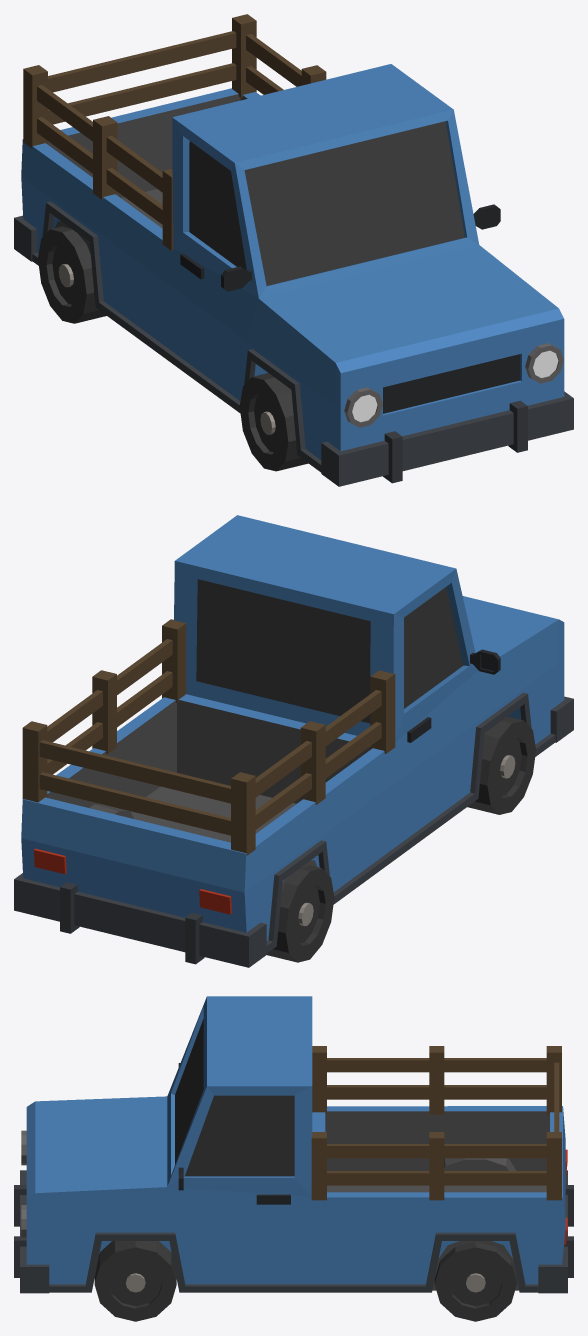
File: FarmJeep_1.fbx
3 renders of one model, top to bottom at view 1: azimuth 30°, elevation 25°; view 2: azimuth 150°, elevation 25°; view 3: azimuth 270°, elevation 25°, orthographic. The views are drawn at different scales.
Visible parts, largest first — view 1: FarmJeep_1, FrontWheels_1, BackWheels_1; view 2: FarmJeep_1, FrontWheels_1, BackWheels_1; view 3: FarmJeep_1, FrontWheels_1, BackWheels_1.
Part boxes in pixels (left/top/right/bottom): FarmJeep_1: left=14, top=14, right=573, bottom=486; FrontWheels_1: left=239, top=373, right=308, bottom=471; BackWheels_1: left=38, top=226, right=106, bottom=323; FarmJeep_1: left=14, top=515, right=573, bottom=967; FrontWheels_1: left=467, top=716, right=535, bottom=814; BackWheels_1: left=266, top=865, right=334, bottom=962; FarmJeep_1: left=14, top=996, right=573, bottom=1293; FrontWheels_1: left=94, top=1241, right=176, bottom=1321; BackWheels_1: left=434, top=1242, right=516, bottom=1321.
Size of the model in its own units: 166 by 155 by 345.
